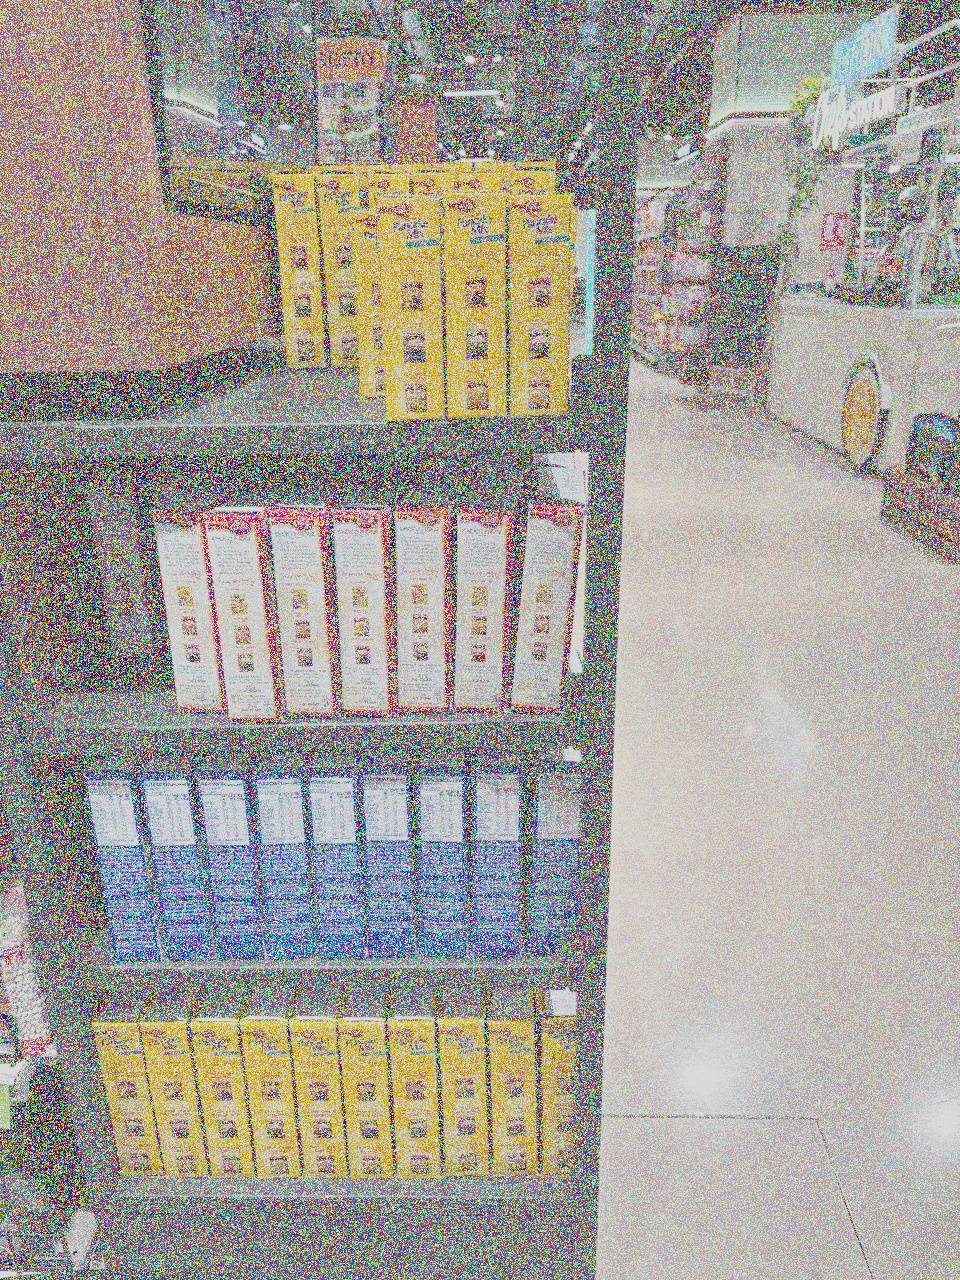Betty Crocker Pancake Mix: (499, 191, 578, 421), (375, 194, 451, 426), (443, 190, 509, 418), (90, 1018, 161, 1192), (266, 169, 328, 372), (139, 1018, 212, 1186), (187, 1016, 256, 1186), (335, 1017, 400, 1189), (285, 1014, 351, 1185), (436, 1014, 502, 1182), (481, 1014, 546, 1184), (382, 1014, 446, 1186), (239, 1017, 301, 1184), (318, 164, 364, 367), (538, 1012, 585, 1188)
